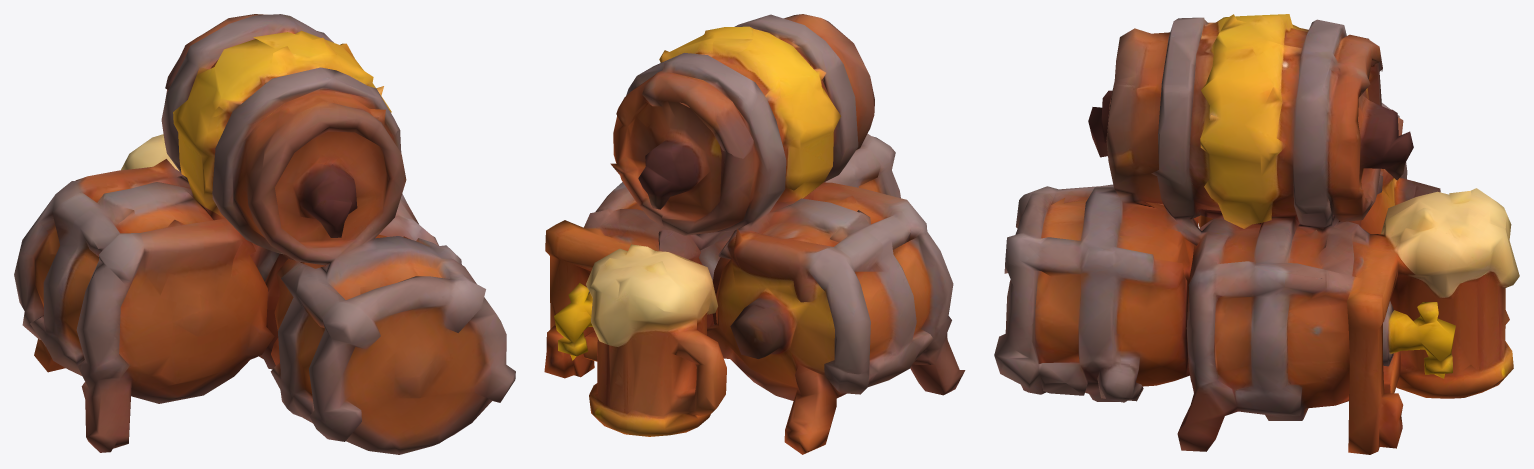
The model's file is ale_kegs-COAr-zXR.glb.
The picture shows the model from 3 angles, left to right: view 1: azimuth 30°, elevation 25°; view 2: azimuth 150°, elevation 25°; view 3: azimuth 270°, elevation 25°; orthographic projection. The views are drawn at different scales.
Visible parts, largest first — view 1: tripo_node_02e8251f-be97-41f3-933f-bba1c31228b7; view 2: tripo_node_02e8251f-be97-41f3-933f-bba1c31228b7; view 3: tripo_node_02e8251f-be97-41f3-933f-bba1c31228b7.
Part boxes in pixels (x1,y1,x2,y2): tripo_node_02e8251f-be97-41f3-933f-bba1c31228b7: (14, 14, 515, 454); tripo_node_02e8251f-be97-41f3-933f-bba1c31228b7: (544, 14, 965, 454); tripo_node_02e8251f-be97-41f3-933f-bba1c31228b7: (994, 14, 1519, 454).
Size of the model in its own units: 0.8132 by 0.7564 by 1.
Materials: 1 (1 with a texture image).
